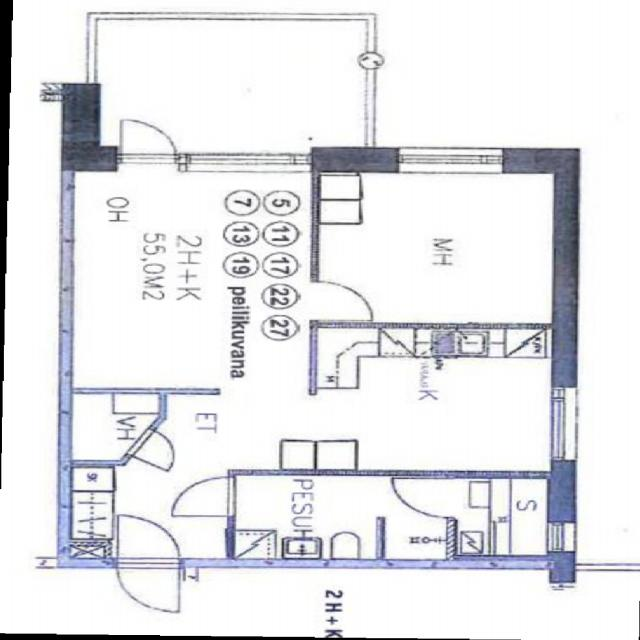door: (120, 108, 178, 172), (117, 558, 180, 612), (117, 514, 180, 568), (125, 427, 194, 473), (392, 479, 456, 518), (171, 478, 235, 516), (310, 282, 373, 320)
